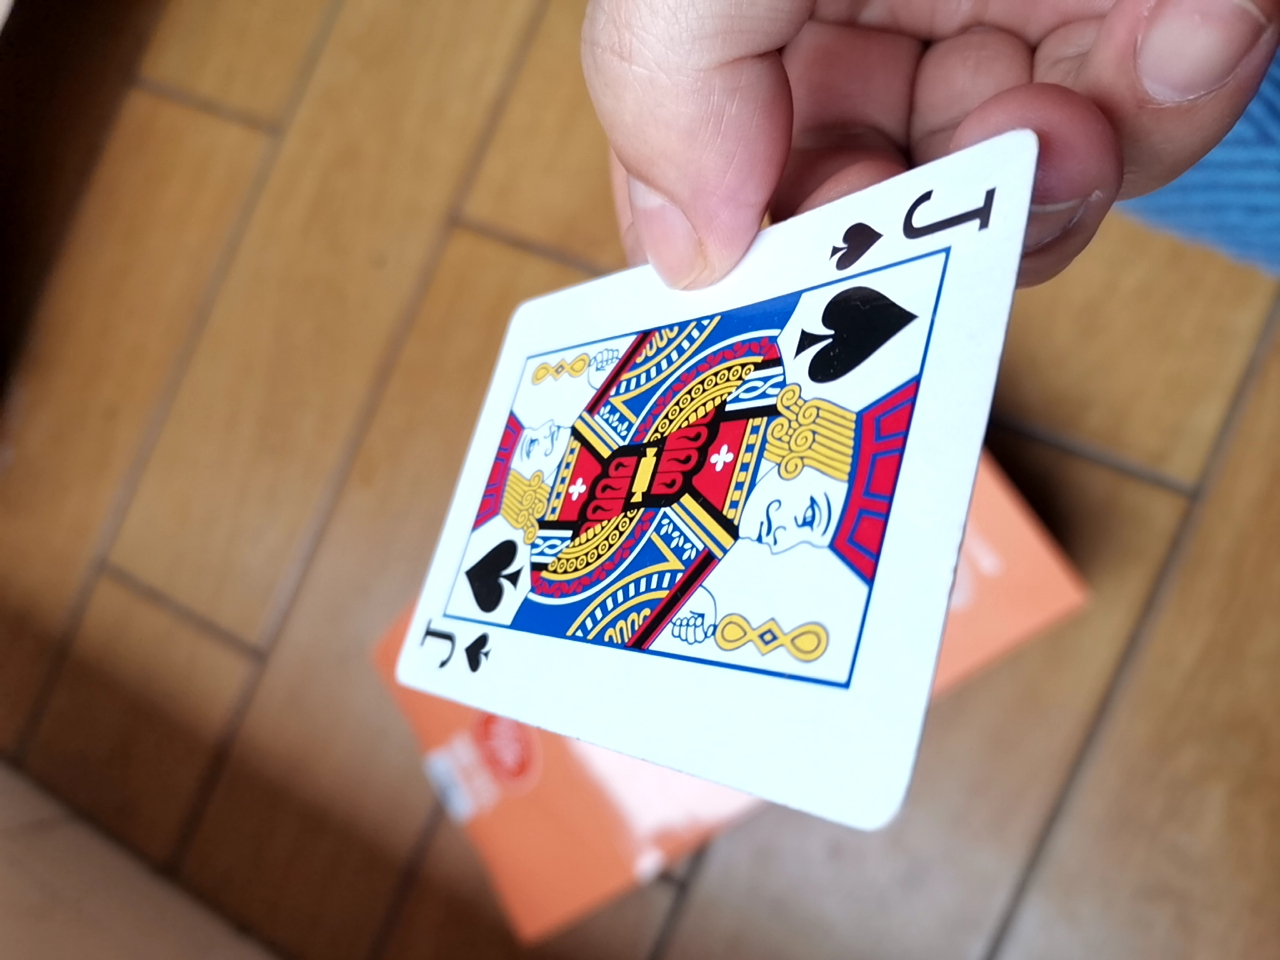ht j: (373, 128, 1040, 845)
